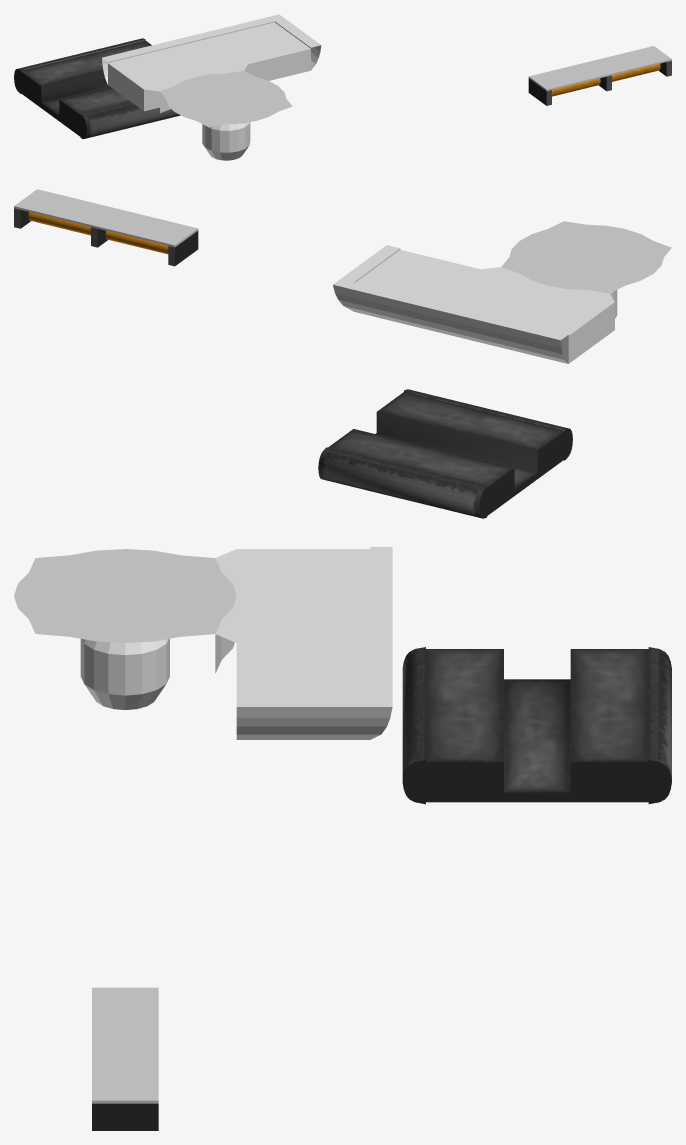
File: platformlarge.fbx
3 views of the same model, one above another, from view 1: azimuth 30°, elevation 25°; view 2: azimuth 150°, elevation 25°; view 3: azimuth 270°, elevation 25° (orthographic). The views are drawn at different scales.
Visible parts, largest first — view 1: Cube.009, Cylinder.005, Plane, Cube.007, Cube.010, Cylinder.004, Cylinder, Cylinder.001, Cube.008; view 2: Cube.009, Plane, Cylinder.005, Cylinder.004, Cube.010, Cube.007, Cylinder.001, Cube.008; view 3: Cube.009, Plane, Cylinder.005, Cylinder.004, Cube.010, Cube.007, Cylinder, Cube.005.
Boxes of the visible parts, <box> form: Cube.009: <box>14,38,180,139</box>; Cylinder.005: <box>108,38,248,112</box>; Plane: <box>160,71,292,126</box>; Cube.007: <box>212,22,310,80</box>; Cube.010: <box>528,46,671,90</box>; Cylinder.004: <box>102,14,321,84</box>; Cylinder: <box>202,122,250,160</box>; Cylinder.001: <box>552,63,660,96</box>; Cube.008: <box>528,78,551,105</box>; Cube.009: <box>318,389,572,518</box>; Plane: <box>501,221,671,293</box>; Cylinder.005: <box>436,267,614,363</box>; Cylinder.004: <box>333,245,568,363</box>; Cube.010: <box>14,189,198,247</box>; Cube.007: <box>356,249,480,302</box>; Cylinder.001: <box>28,212,168,254</box>; Cube.008: <box>168,231,198,266</box>; Cube.009: <box>402,647,671,804</box>; Plane: <box>14,549,236,642</box>; Cylinder.005: <box>215,549,370,673</box>; Cylinder.004: <box>236,547,392,739</box>; Cube.010: <box>92,987,158,1103</box>; Cube.007: <box>236,643,370,697</box>; Cylinder: <box>80,639,169,709</box>; Cube.005: <box>92,1103,158,1130</box>.
Size of the model in its own units: 9600 by 1540 by 5910.
